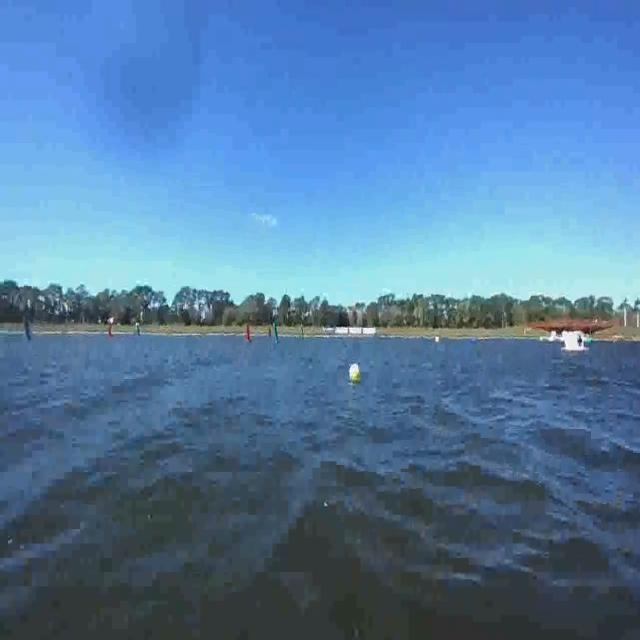green-column-buoy: (274, 319, 280, 342)
red-column-buoy: (243, 326, 250, 345), (108, 321, 114, 338)
yellow-buoy: (350, 362, 360, 380)
